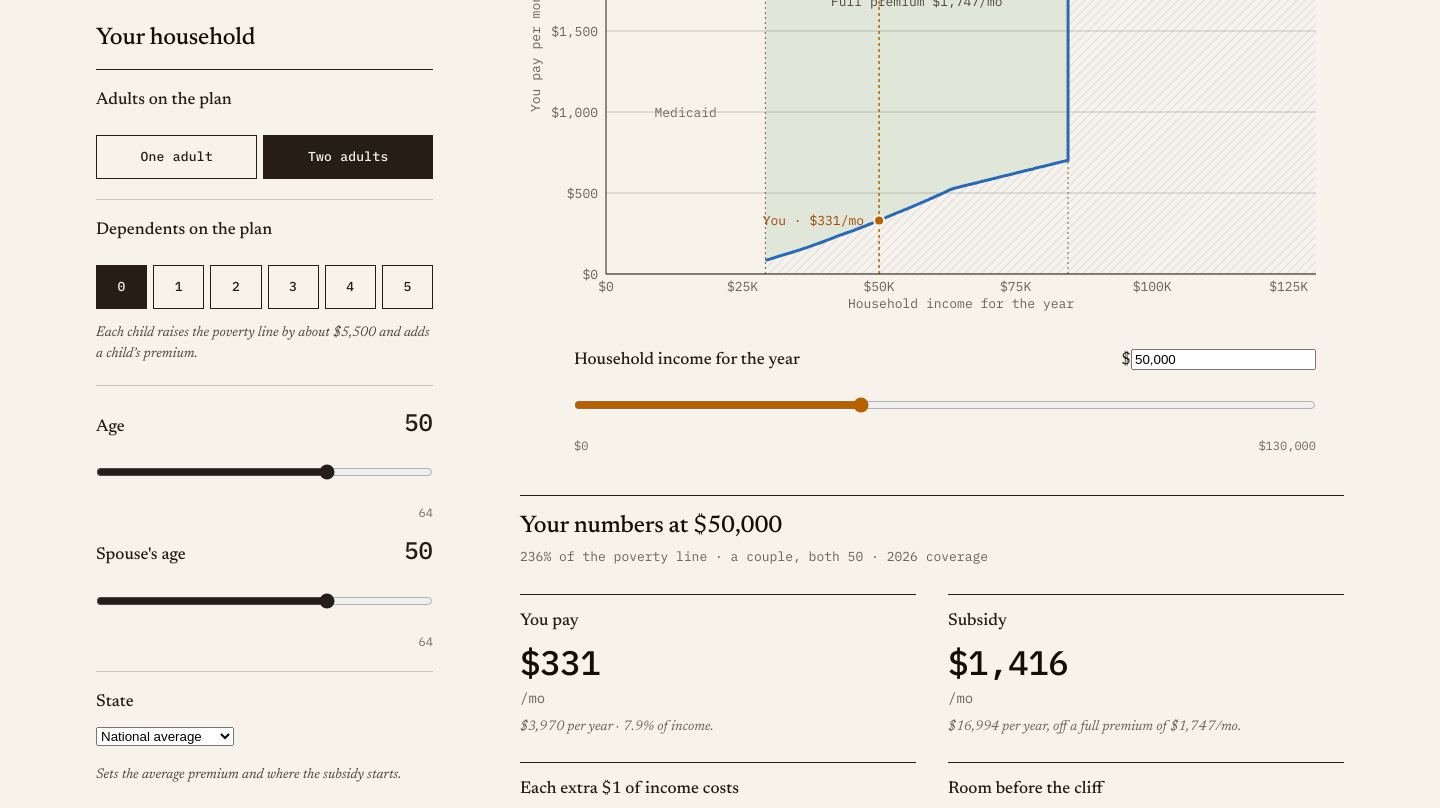
it: the figures › copies the address, flushed first, and says so
(page scrolled)
Set the slider named "Household income for the year" to "65000": (945, 405) [574, 383, 1316, 427]
(page scrolled)
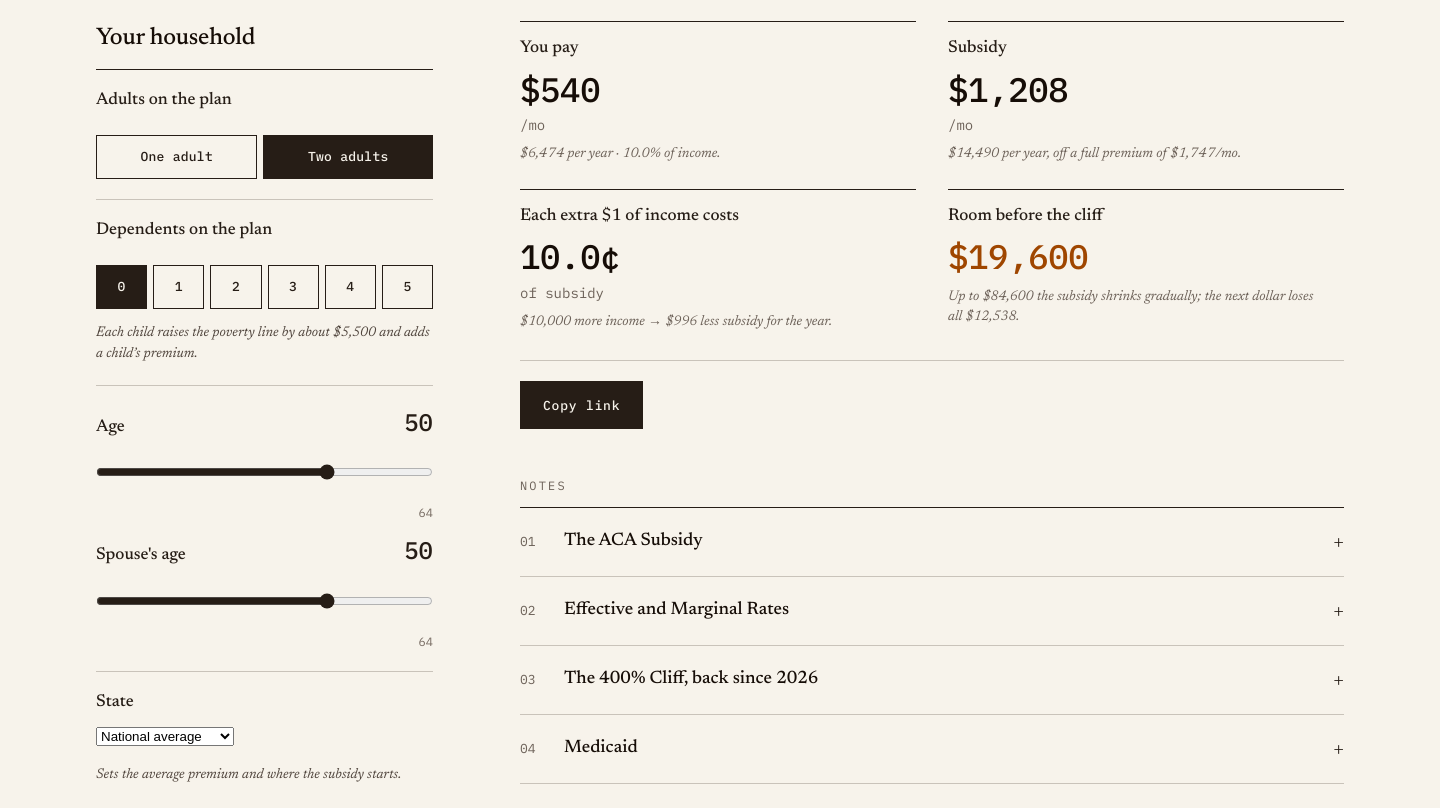
Click the button "Copy link": (582, 405) [520, 381, 643, 429]
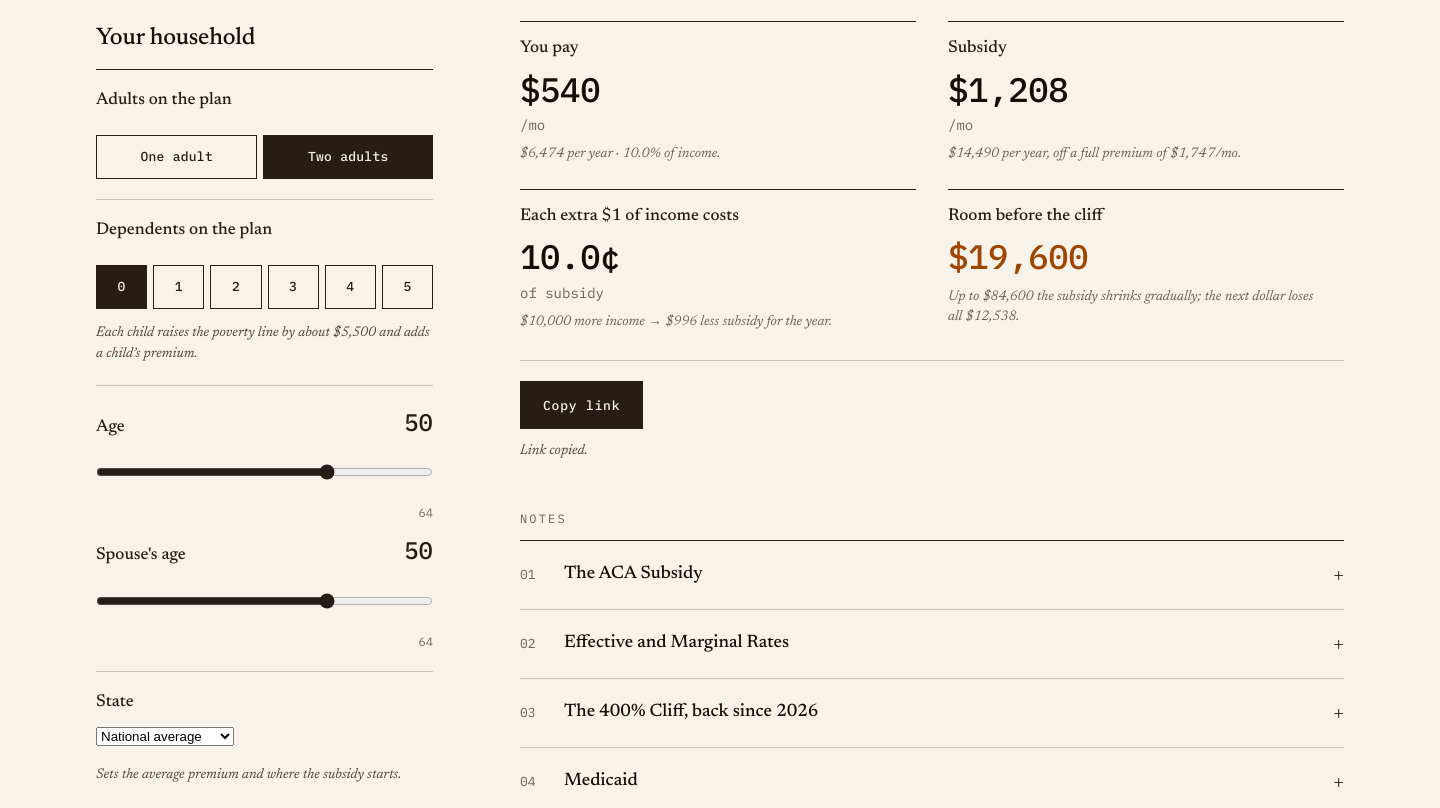
Now the text "Link copied." is not empty, box [520, 444, 588, 458]
